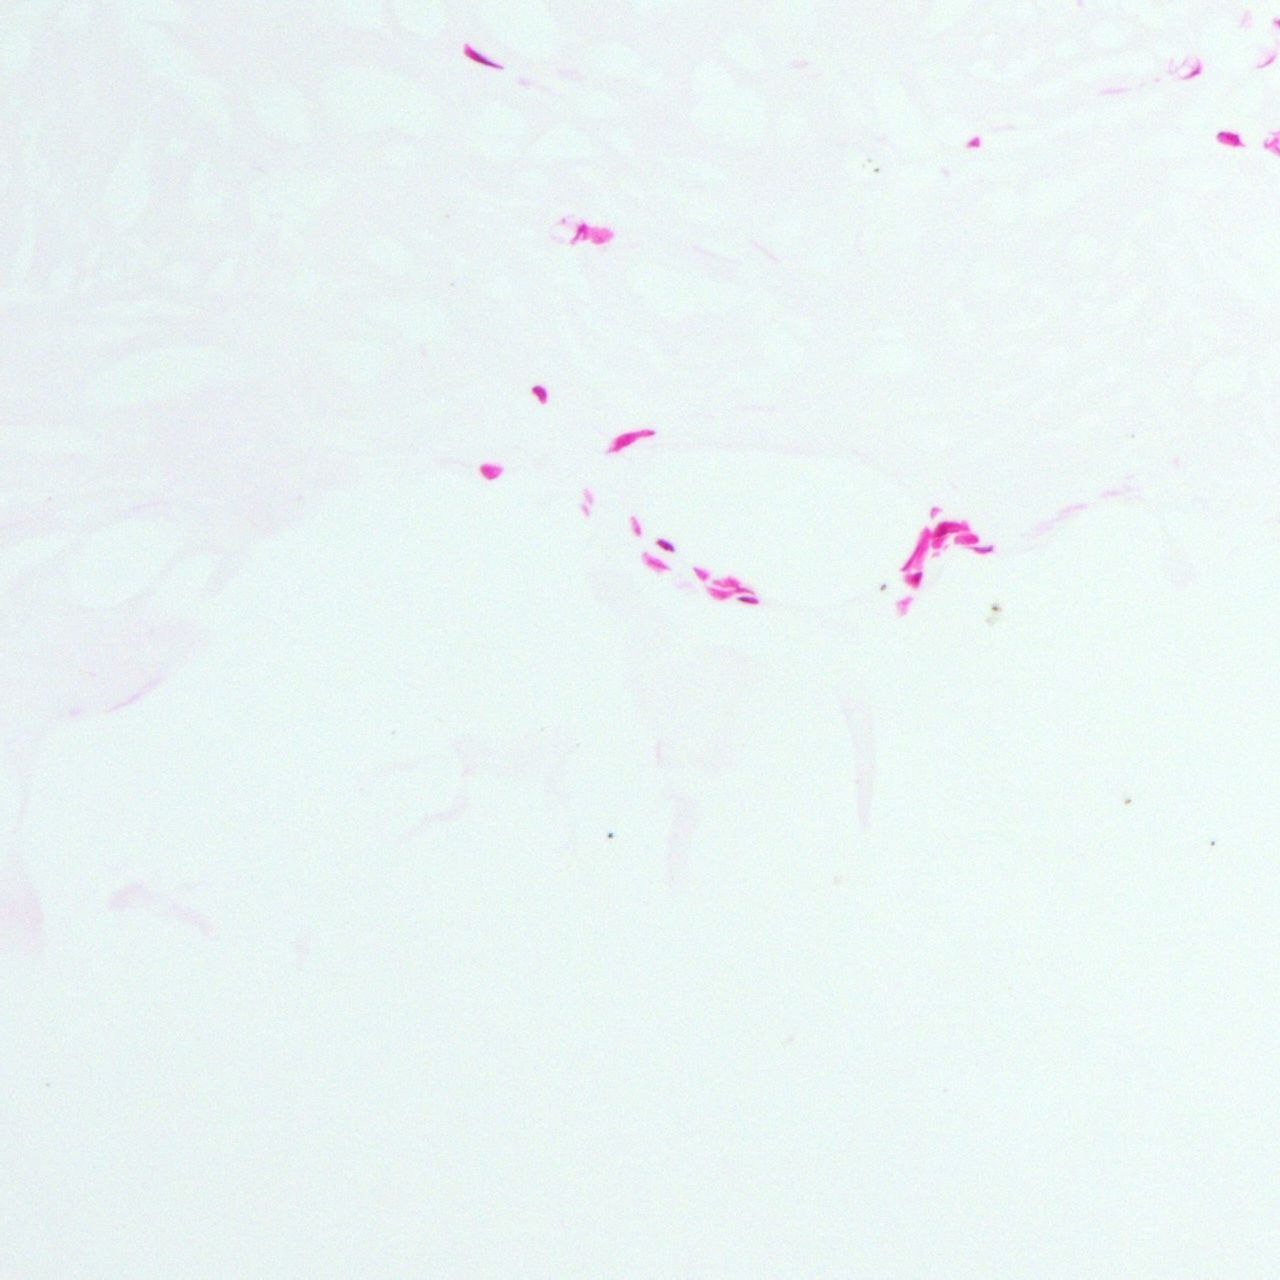nucleus-FG: (459, 42, 508, 73), (930, 515, 972, 538), (638, 549, 669, 574), (529, 382, 552, 407), (654, 535, 678, 554), (1216, 131, 1245, 147), (903, 571, 922, 588), (737, 592, 760, 605)
